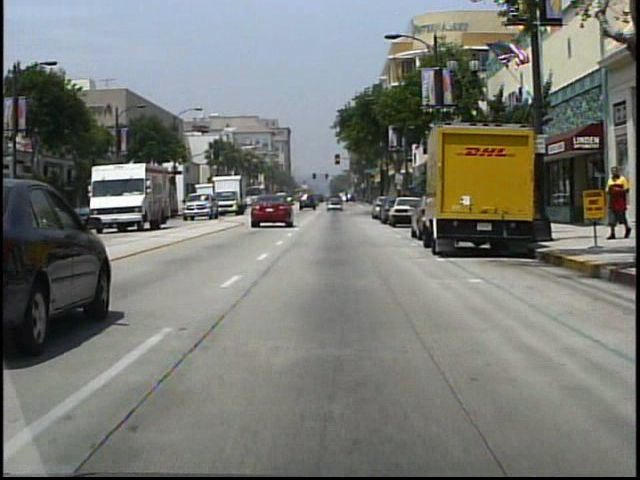person: (602, 165, 629, 241)
